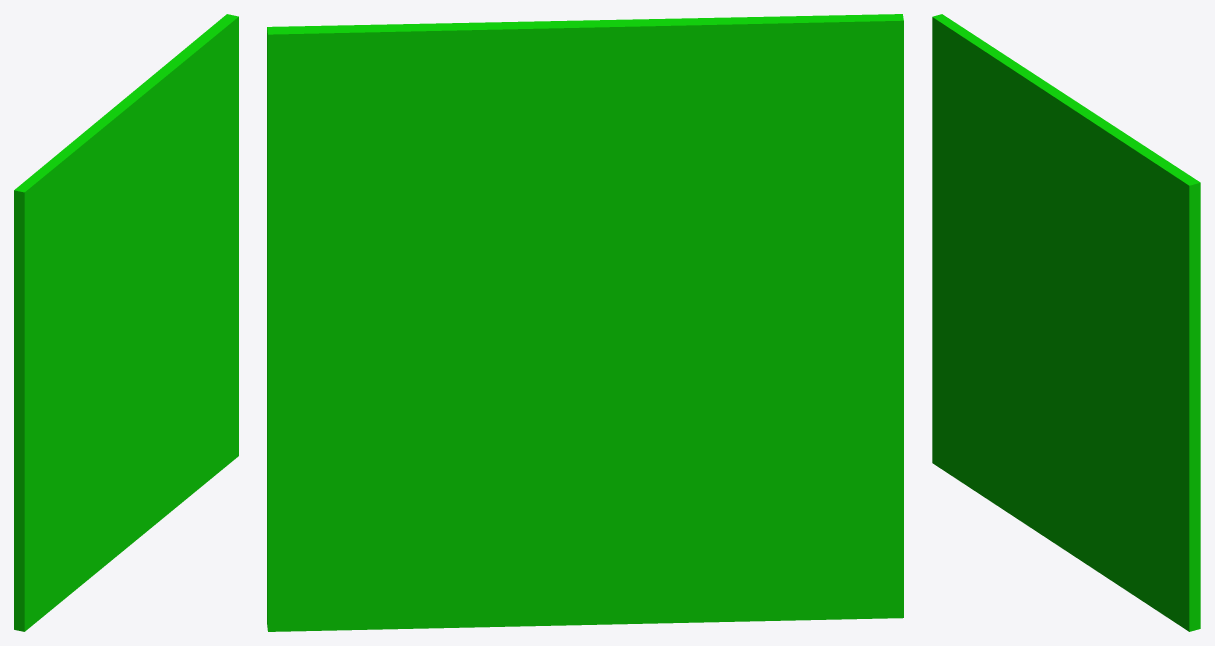
3 views of the same model, side by side, from view 1: azimuth 30°, elevation 25°; view 2: azimuth 150°, elevation 25°; view 3: azimuth 270°, elevation 25° (orthographic). The views are drawn at different scales.
Visible parts, largest first — view 1: Cube.005; view 2: Cube.005; view 3: Cube.005.
Part boxes in pixels (x1=…): Cube.005: x1=14, y1=14, x2=238, y2=631; Cube.005: x1=267, y1=14, x2=903, y2=631; Cube.005: x1=932, y1=14, x2=1200, y2=631.
Size of the model in its own units: 2391 by 2896 by 1580.
